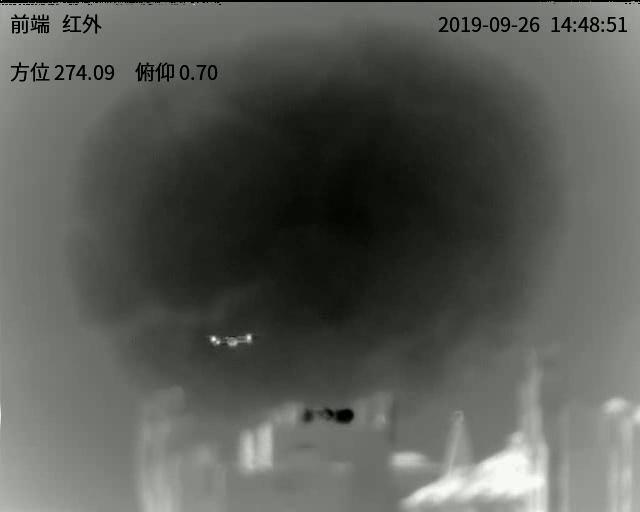DRONE: (209, 333, 254, 347)
